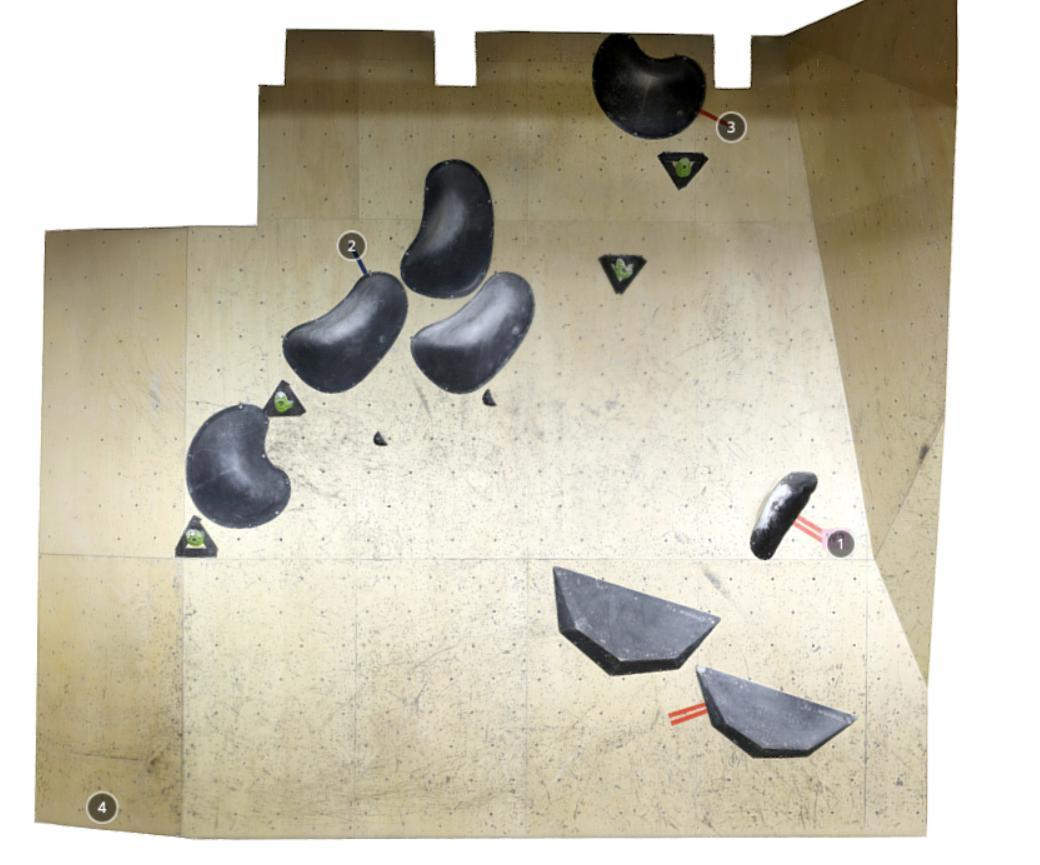hold: (555, 566, 723, 676), (282, 271, 408, 394), (411, 273, 535, 396), (695, 666, 859, 758), (400, 159, 494, 299), (186, 404, 291, 529), (592, 33, 707, 141), (750, 472, 817, 560), (657, 152, 708, 191), (600, 255, 647, 295), (175, 515, 217, 557), (262, 380, 306, 417), (482, 388, 497, 407), (373, 431, 388, 447)
